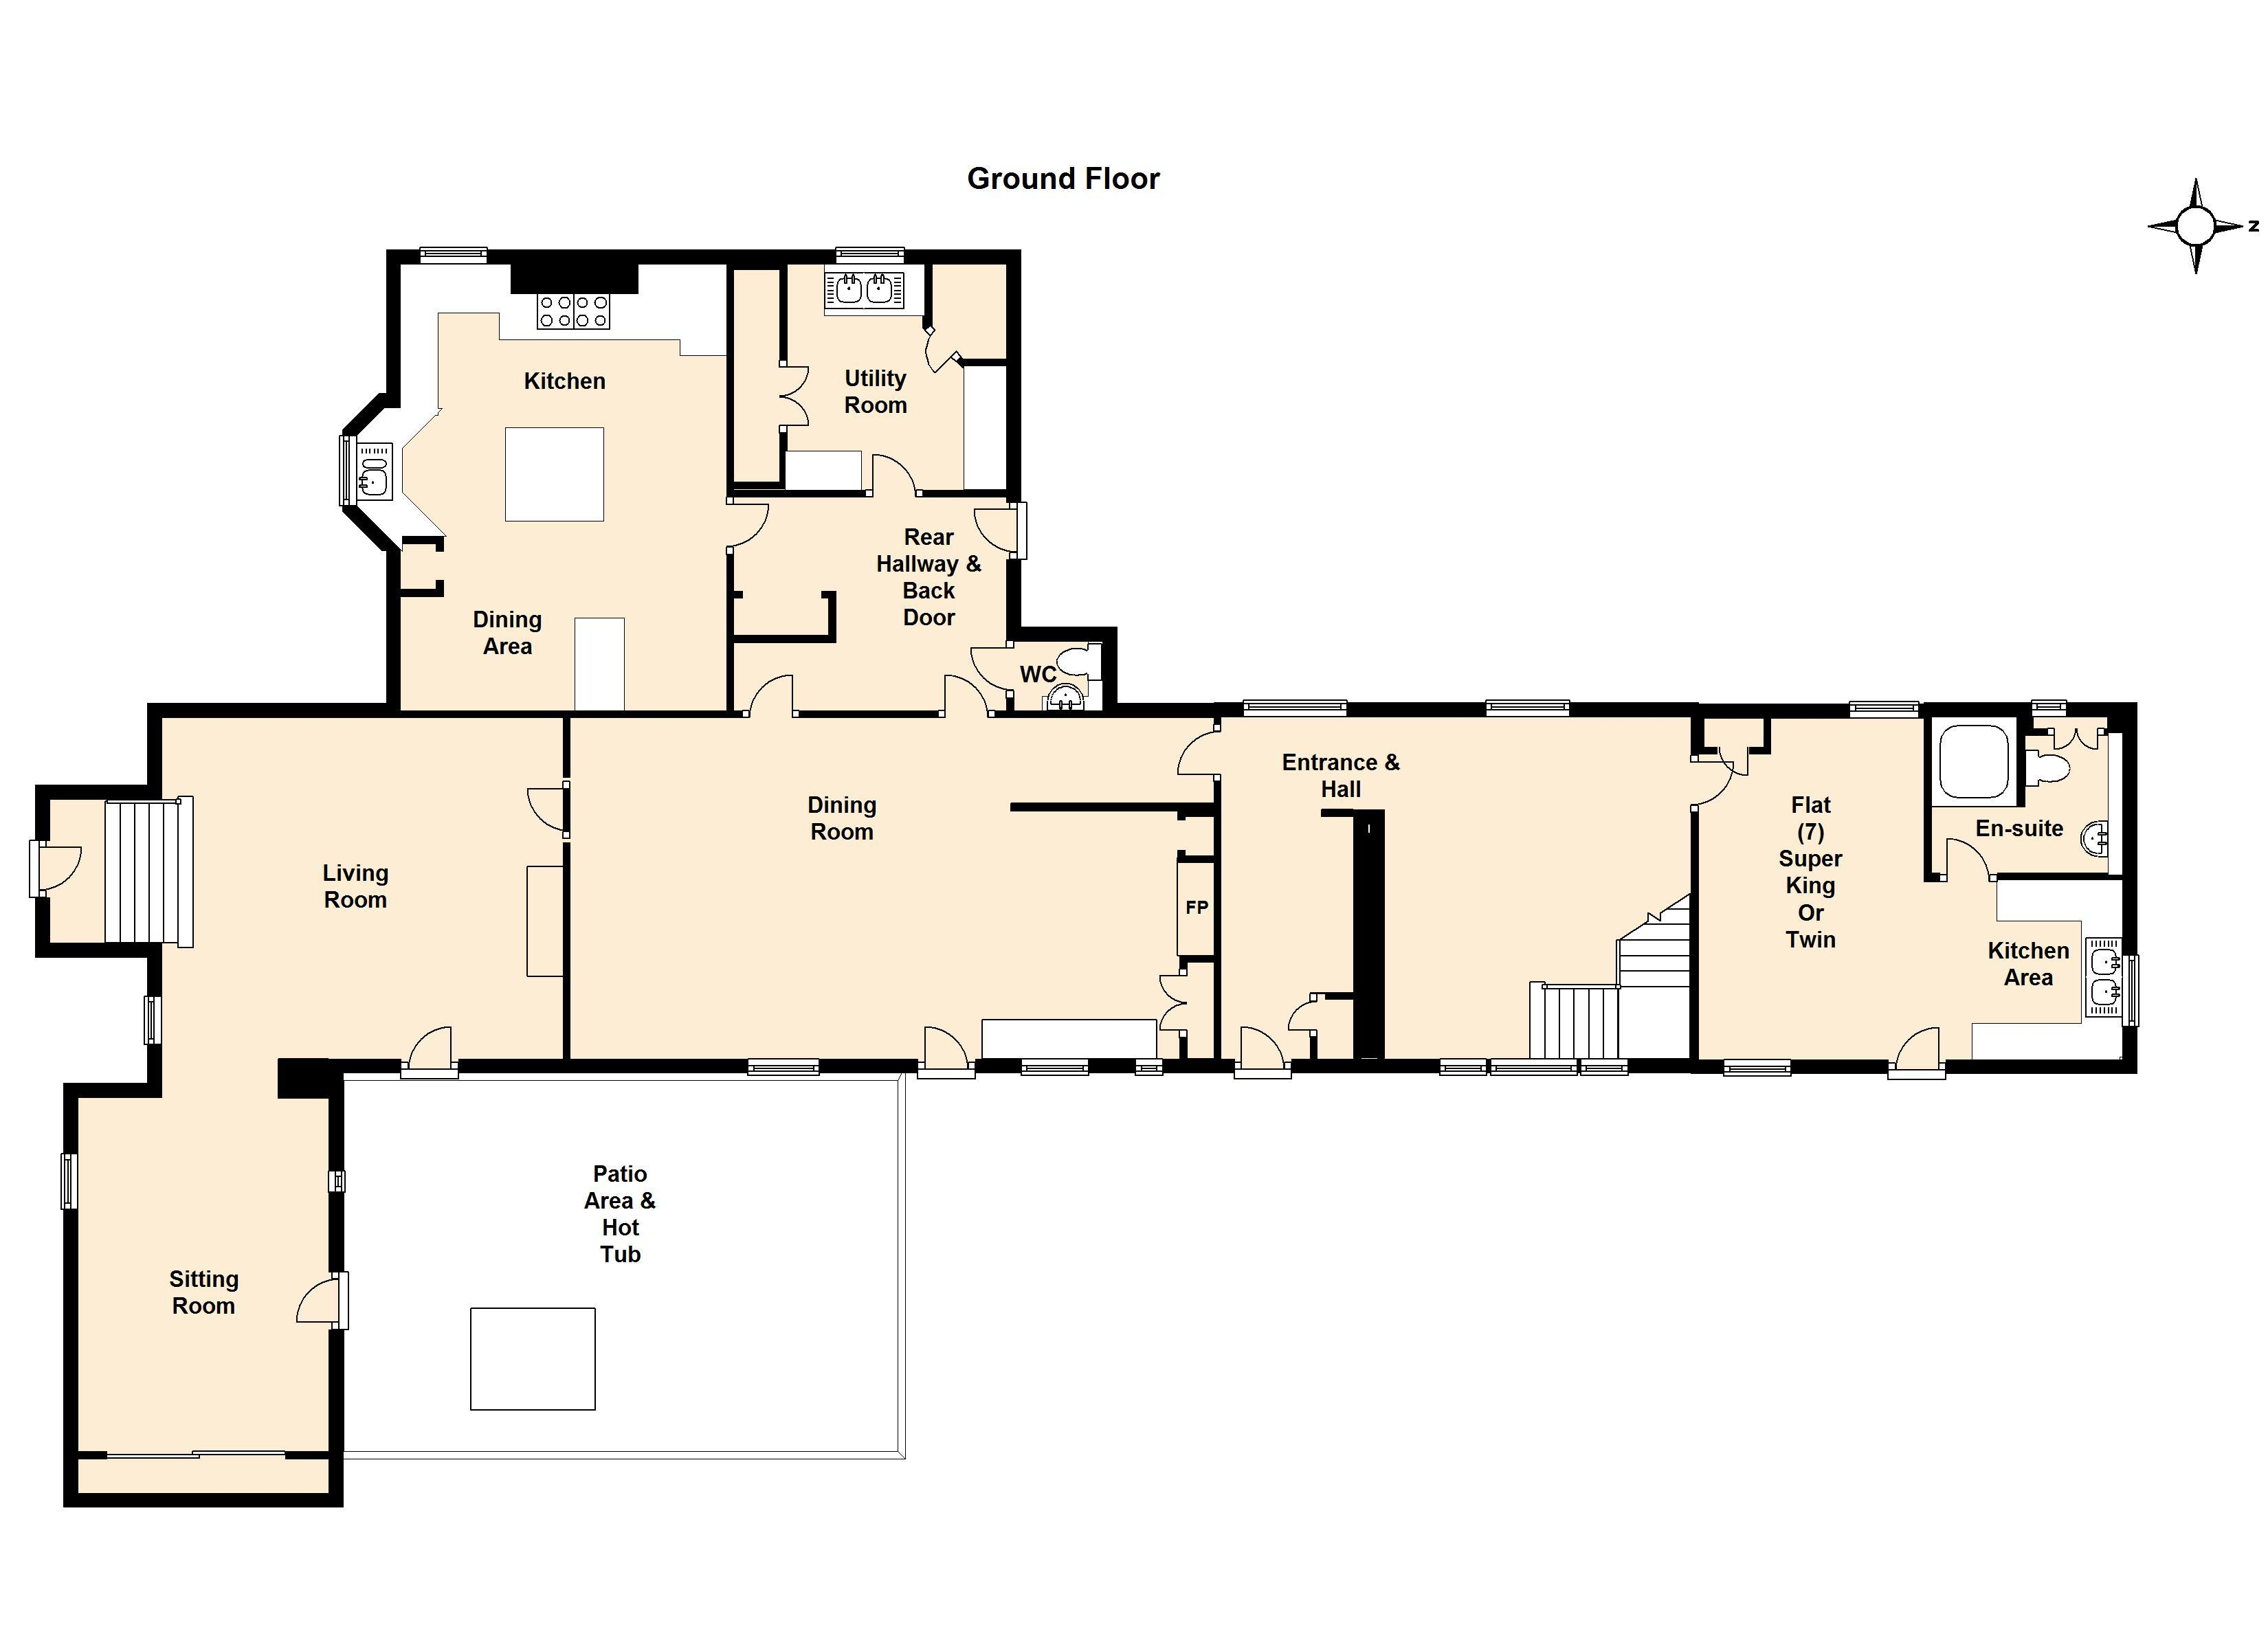door: (512, 781, 563, 839), (775, 363, 815, 429), (1166, 729, 1217, 780), (280, 1278, 333, 1327), (1233, 1019, 1284, 1063), (905, 333, 956, 377), (937, 669, 988, 713), (919, 1019, 970, 1063), (866, 443, 914, 489), (403, 1015, 454, 1058), (958, 644, 1009, 686), (1893, 1019, 1942, 1061), (1155, 975, 1189, 1035), (46, 843, 88, 889), (1942, 834, 1992, 873), (750, 671, 799, 707), (736, 502, 773, 549), (970, 502, 1005, 549), (1699, 760, 1738, 803), (1278, 1000, 1314, 1035), (1724, 750, 1754, 783)
